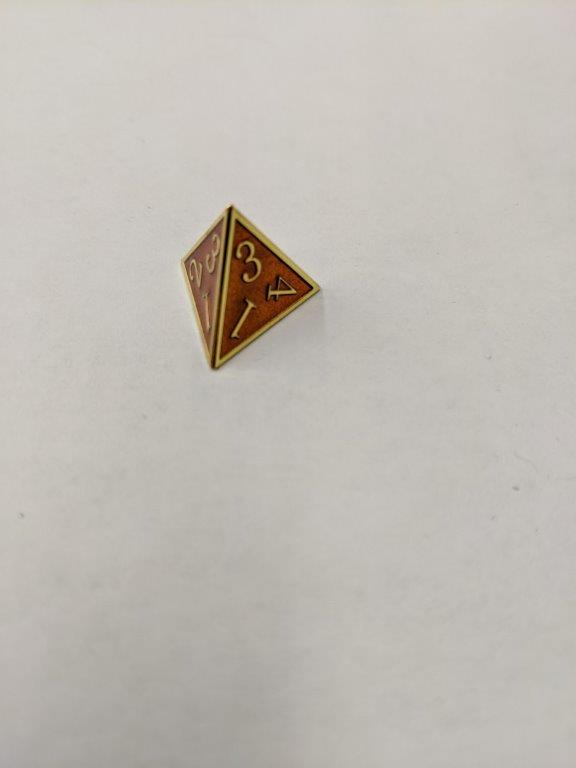d4-3: (175, 200, 323, 374)
